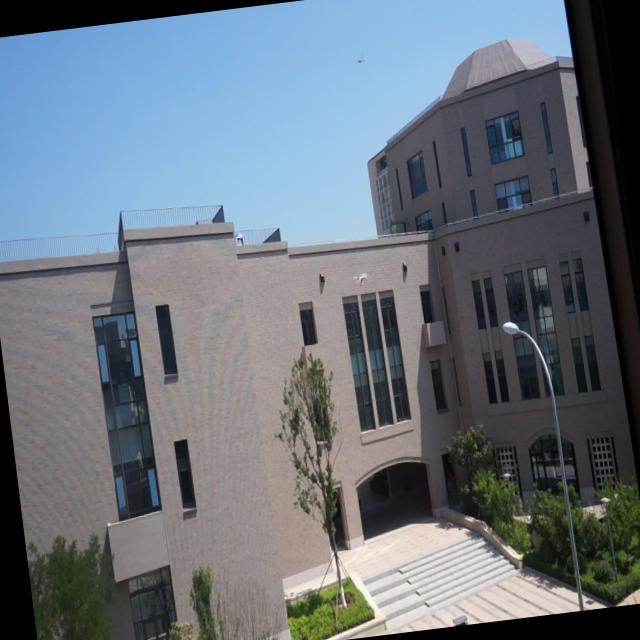drone: (351, 268, 371, 288)
